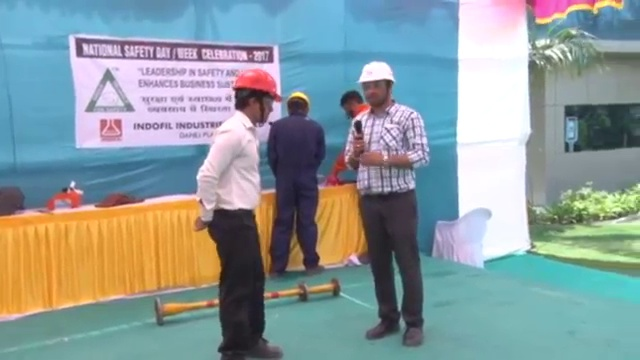helmet: (232, 67, 286, 104), (356, 59, 397, 86), (285, 91, 313, 109)
helmet_off: (338, 88, 372, 121)
helmet_on: (230, 66, 286, 131), (355, 57, 399, 116), (284, 90, 313, 120)
person: (194, 66, 288, 360), (346, 57, 431, 347), (267, 92, 330, 277)
